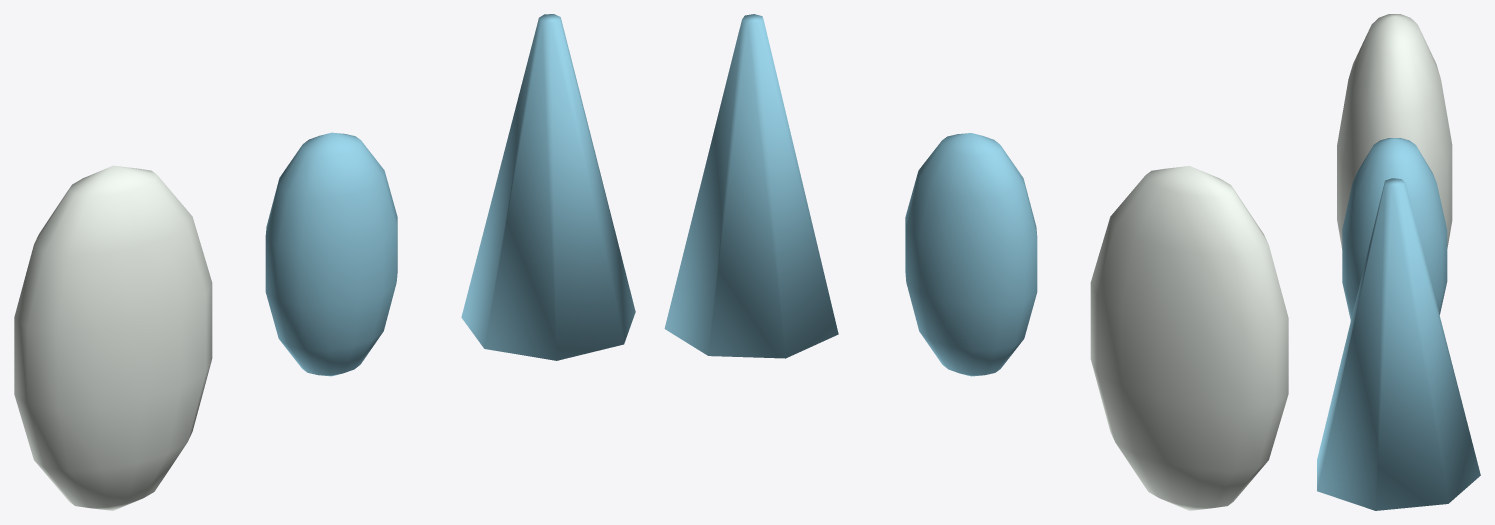
Rendered from effect_shapes.glb.
3 renders of one model, left to right at view 1: azimuth 30°, elevation 25°; view 2: azimuth 150°, elevation 25°; view 3: azimuth 270°, elevation 25°, orthographic. The views are drawn at different scales.
Visible parts, largest first — view 1: FoamPetal, BurstSpike, Droplet; view 2: FoamPetal, BurstSpike, Droplet; view 3: BurstSpike, FoamPetal, Droplet.
Boxes of the visible parts, bbox=[...] form: FoamPetal: bbox=[14, 165, 212, 510]; BurstSpike: bbox=[461, 14, 635, 360]; Droplet: bbox=[265, 132, 397, 376]; FoamPetal: bbox=[1090, 166, 1288, 510]; BurstSpike: bbox=[664, 14, 838, 358]; Droplet: bbox=[905, 133, 1037, 376]; BurstSpike: bbox=[1317, 178, 1480, 510]; FoamPetal: bbox=[1337, 14, 1452, 249]; Droplet: bbox=[1342, 138, 1447, 320].
Size of the model in its own units: 1.25 by 0.76 by 0.3042.
